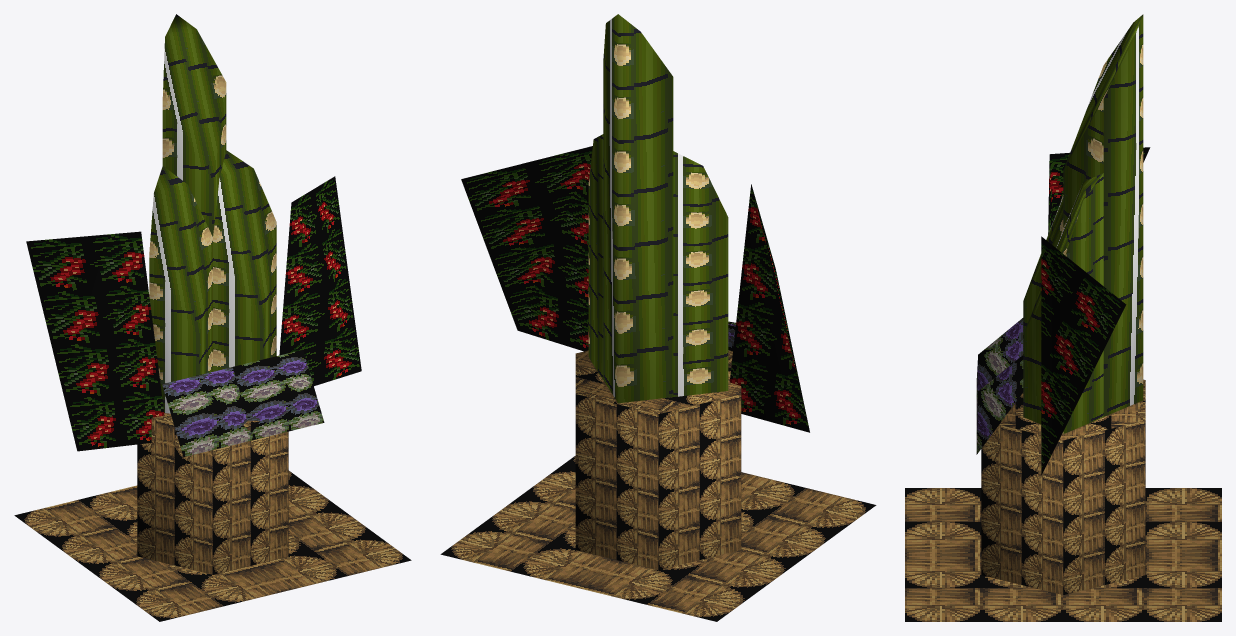
File: 3262IMIG03_01.gltf
3 views of the same model, side by side, from view 1: azimuth 30°, elevation 25°; view 2: azimuth 150°, elevation 25°; view 3: azimuth 270°, elevation 25° (orthographic). The views are drawn at different scales.
Visible parts, largest first — view 1: 3262IMIG03_01; view 2: 3262IMIG03_01; view 3: 3262IMIG03_01.
Part boxes in pixels (x1,y1,x2,y2): 3262IMIG03_01: (14, 14, 411, 621); 3262IMIG03_01: (440, 14, 876, 621); 3262IMIG03_01: (905, 14, 1221, 621).
Size of the model in its own units: 0.9619 by 1.54 by 0.814.
Materials: 4 (4 with a texture image).
